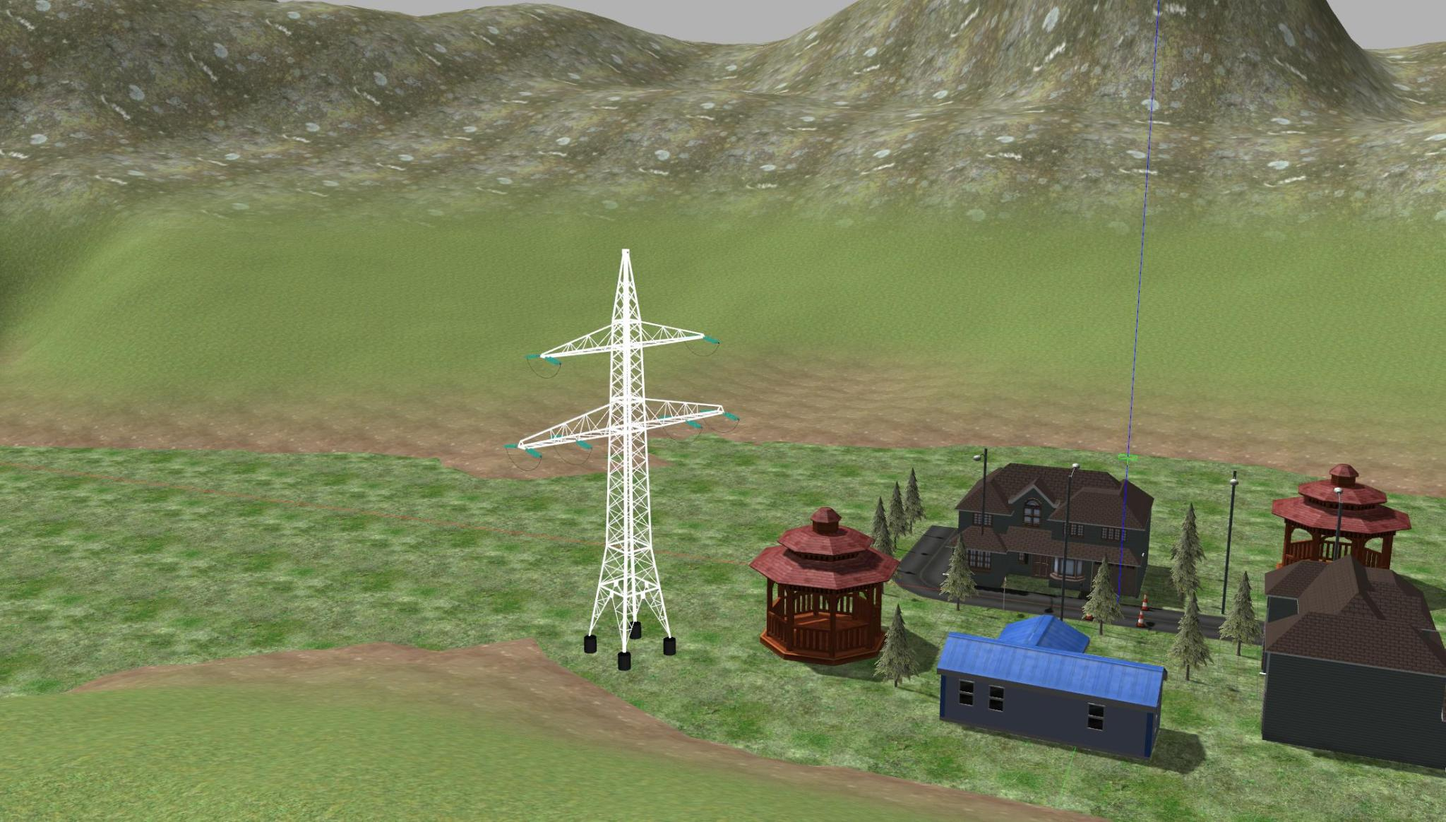tower: (514, 249, 727, 640)
